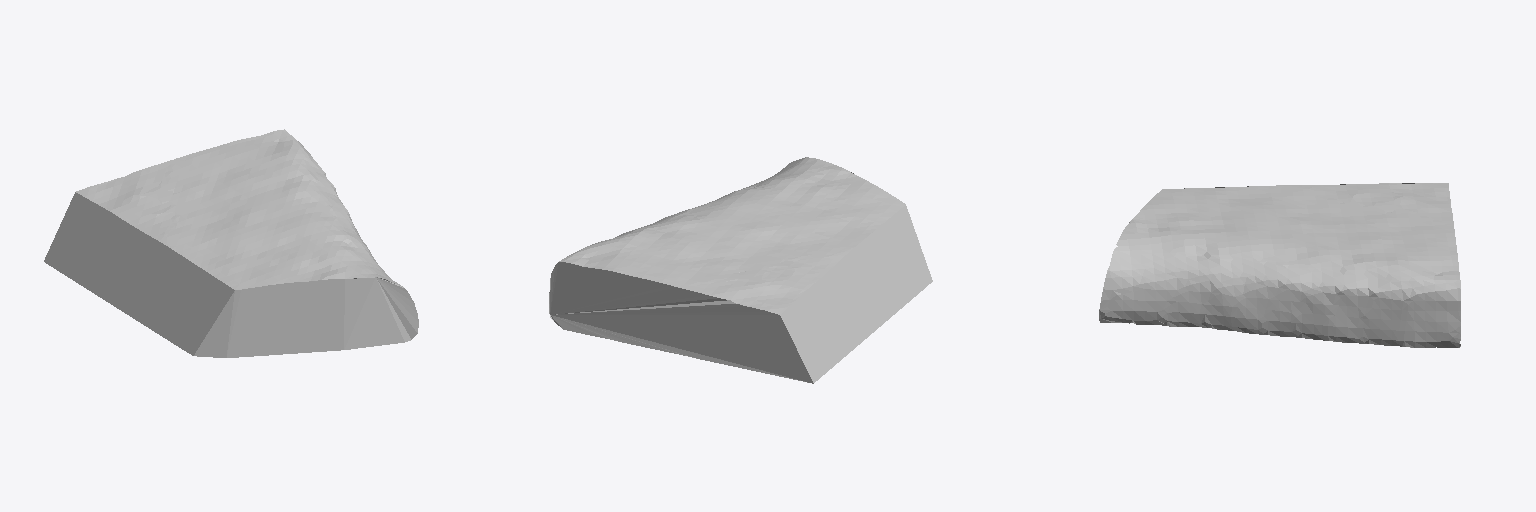
The model's file is low_cell_099.obj.
The picture shows the model from 3 angles: view 1: azimuth 30°, elevation 25°; view 2: azimuth 150°, elevation 25°; view 3: azimuth 270°, elevation 25°; orthographic projection.
Visible parts, largest first — view 1: low_cell.099_low_cell.098; view 2: low_cell.099_low_cell.098; view 3: low_cell.099_low_cell.098.
Boxes of the visible parts, x1=… form: low_cell.099_low_cell.098: x1=44, y1=129, x2=418, y2=357; low_cell.099_low_cell.098: x1=549, y1=157, x2=932, y2=383; low_cell.099_low_cell.098: x1=1099, y1=183, x2=1460, y2=347.
Size of the model in its own units: 0.5456 by 0.1433 by 0.6643.